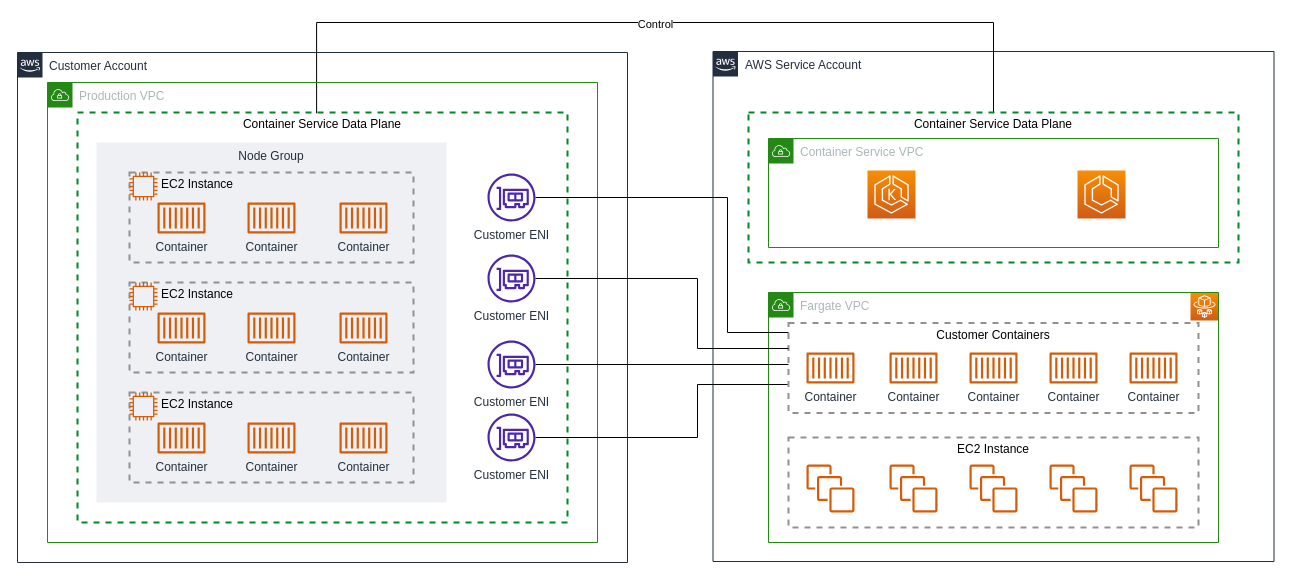
The diagram is 1292 pixels wide and 580 high, and some of its shapes have lost their labels. The centre of each missing label's shape, as x and y in pixels:
"ECS" belongs at point (1101, 194).
"EKS" belongs at point (891, 194).
"Fargate" belongs at point (1204, 306).
